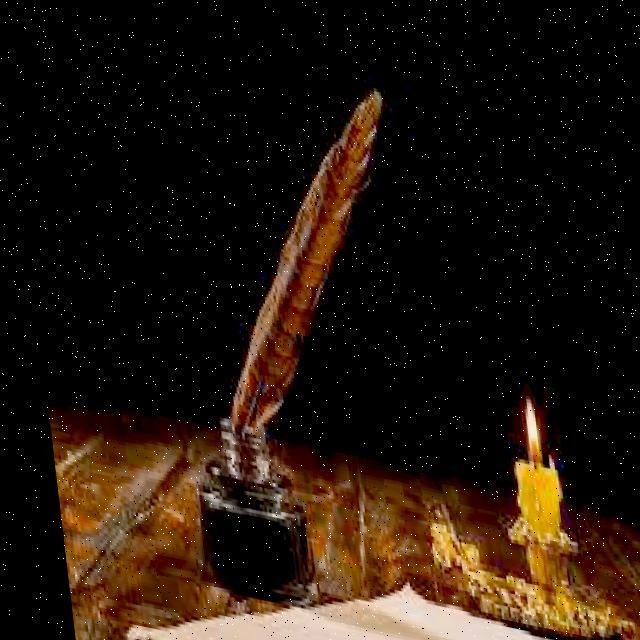Fire: (504, 368, 536, 442)
